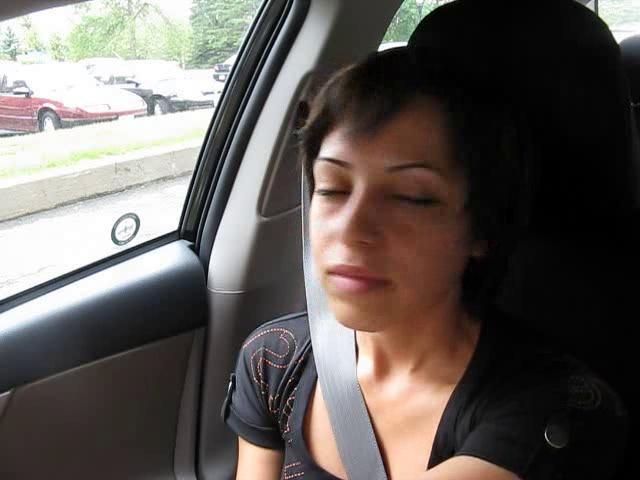close_eyeL: (304, 168, 359, 211)
close_eyeR: (373, 177, 455, 225)
no_yawn: (303, 252, 402, 307)
